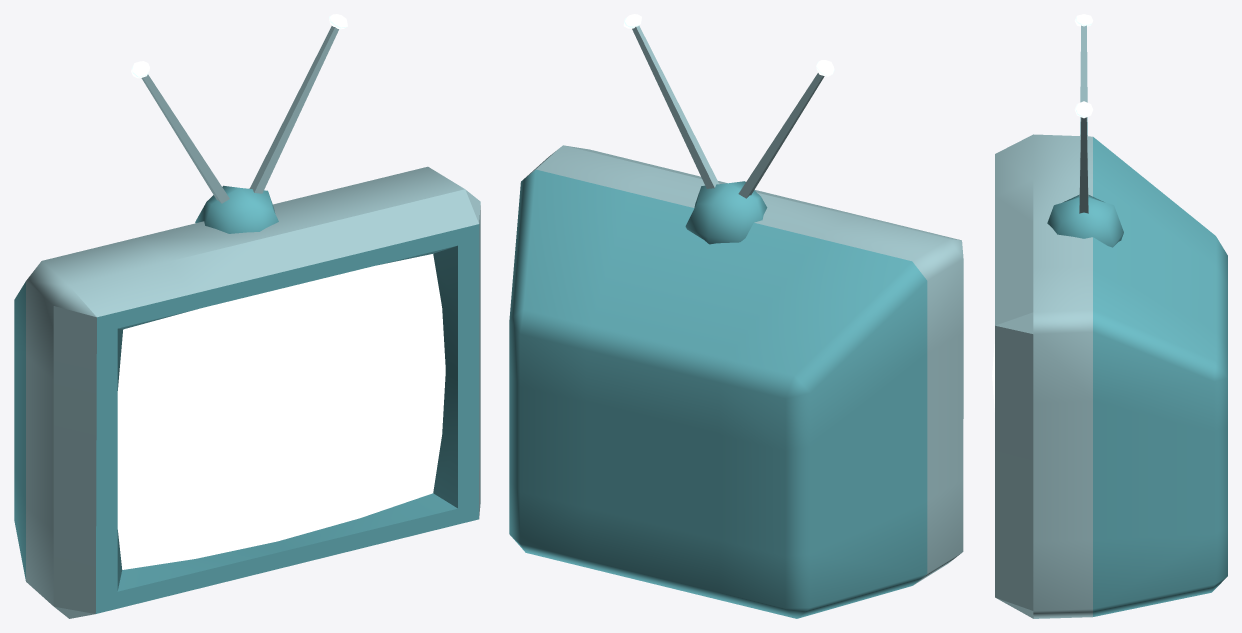
The model's file is app_tv.fbx.
3 renders of one model, left to right at view 1: azimuth 30°, elevation 25°; view 2: azimuth 150°, elevation 25°; view 3: azimuth 270°, elevation 25°, orthographic. The views are drawn at different scales.
Parts seen in each view (by area): view 1: tv_body, tv_antennaL, tv_antennaR; view 2: tv_body, tv_antennaL, tv_antennaR; view 3: tv_body, tv_antennaL, tv_antennaR.
Boxes of the visible parts, x1,y1,x2,y2 form: tv_body: (14, 166, 480, 618); tv_antennaL: (249, 14, 347, 193); tv_antennaR: (131, 61, 229, 203); tv_body: (509, 145, 963, 618); tv_antennaL: (623, 14, 718, 188); tv_antennaR: (738, 60, 834, 198); tv_body: (992, 134, 1227, 618); tv_antennaL: (1074, 101, 1093, 213); tv_antennaR: (1074, 14, 1093, 196).
Size of the model in its own units: 76.26 by 87.54 by 39.63.
